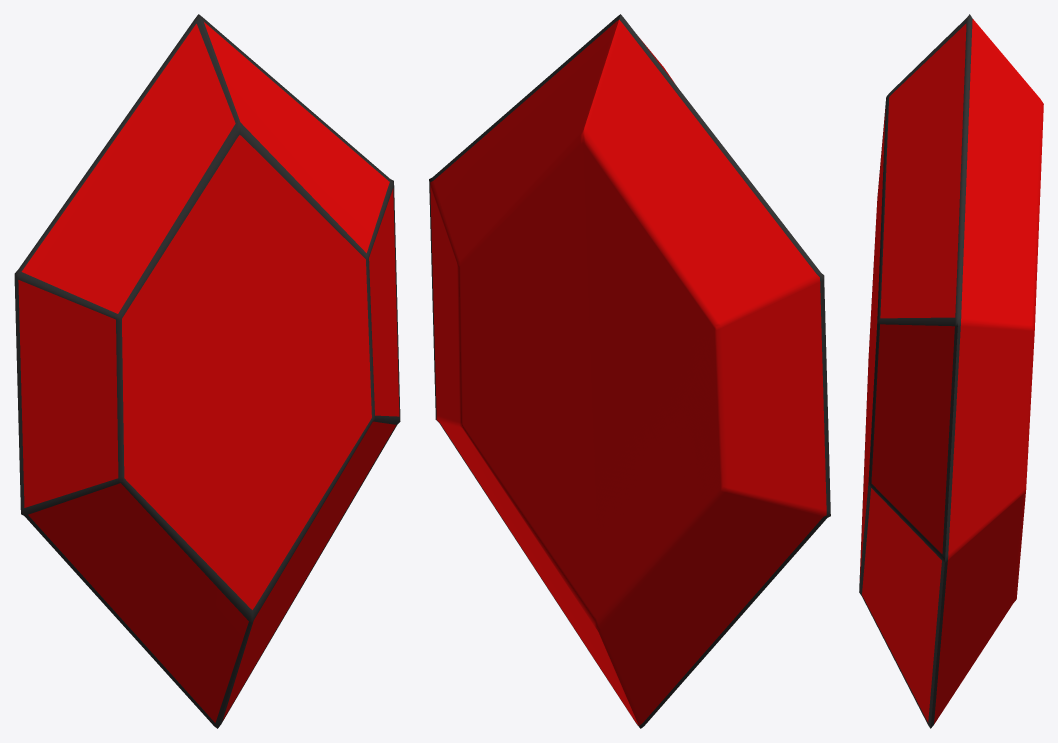
Rendered from rubygem_blacklines.fbx.
The picture shows the model from 3 angles, left to right: view 1: azimuth 30°, elevation 25°; view 2: azimuth 150°, elevation 25°; view 3: azimuth 270°, elevation 25°; orthographic projection. The views are drawn at different scales.
Parts seen in each view (by area): view 1: ruby2; view 2: ruby2; view 3: ruby2.
Boxes of the visible parts, x1,y1,x2,y2 form: ruby2: (14, 14, 400, 728); ruby2: (429, 14, 830, 728); ruby2: (859, 14, 1043, 728).
Size of the model in its own units: 6.82 by 12.04 by 2.82.
